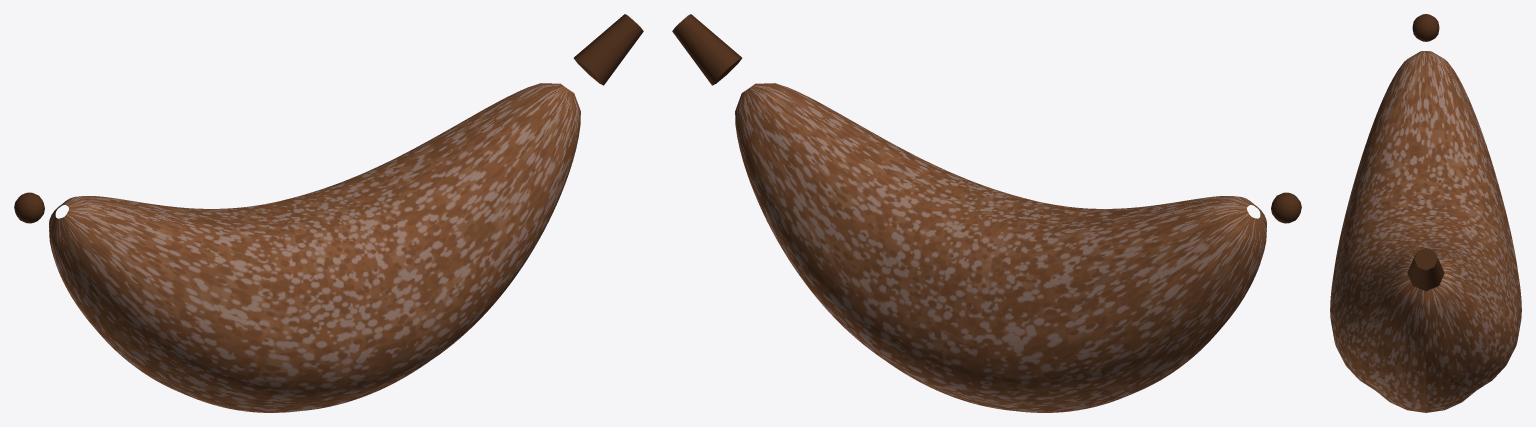
File: tamarind.glb
The picture shows the model from 3 angles, left to right: view 1: azimuth 30°, elevation 25°; view 2: azimuth 150°, elevation 25°; view 3: azimuth 270°, elevation 25°; orthographic projection. The views are drawn at different scales.
Bounding box in the file's own units: 0.1689 × 0.0799 × 0.0499.
2 materials, 1 textured.
